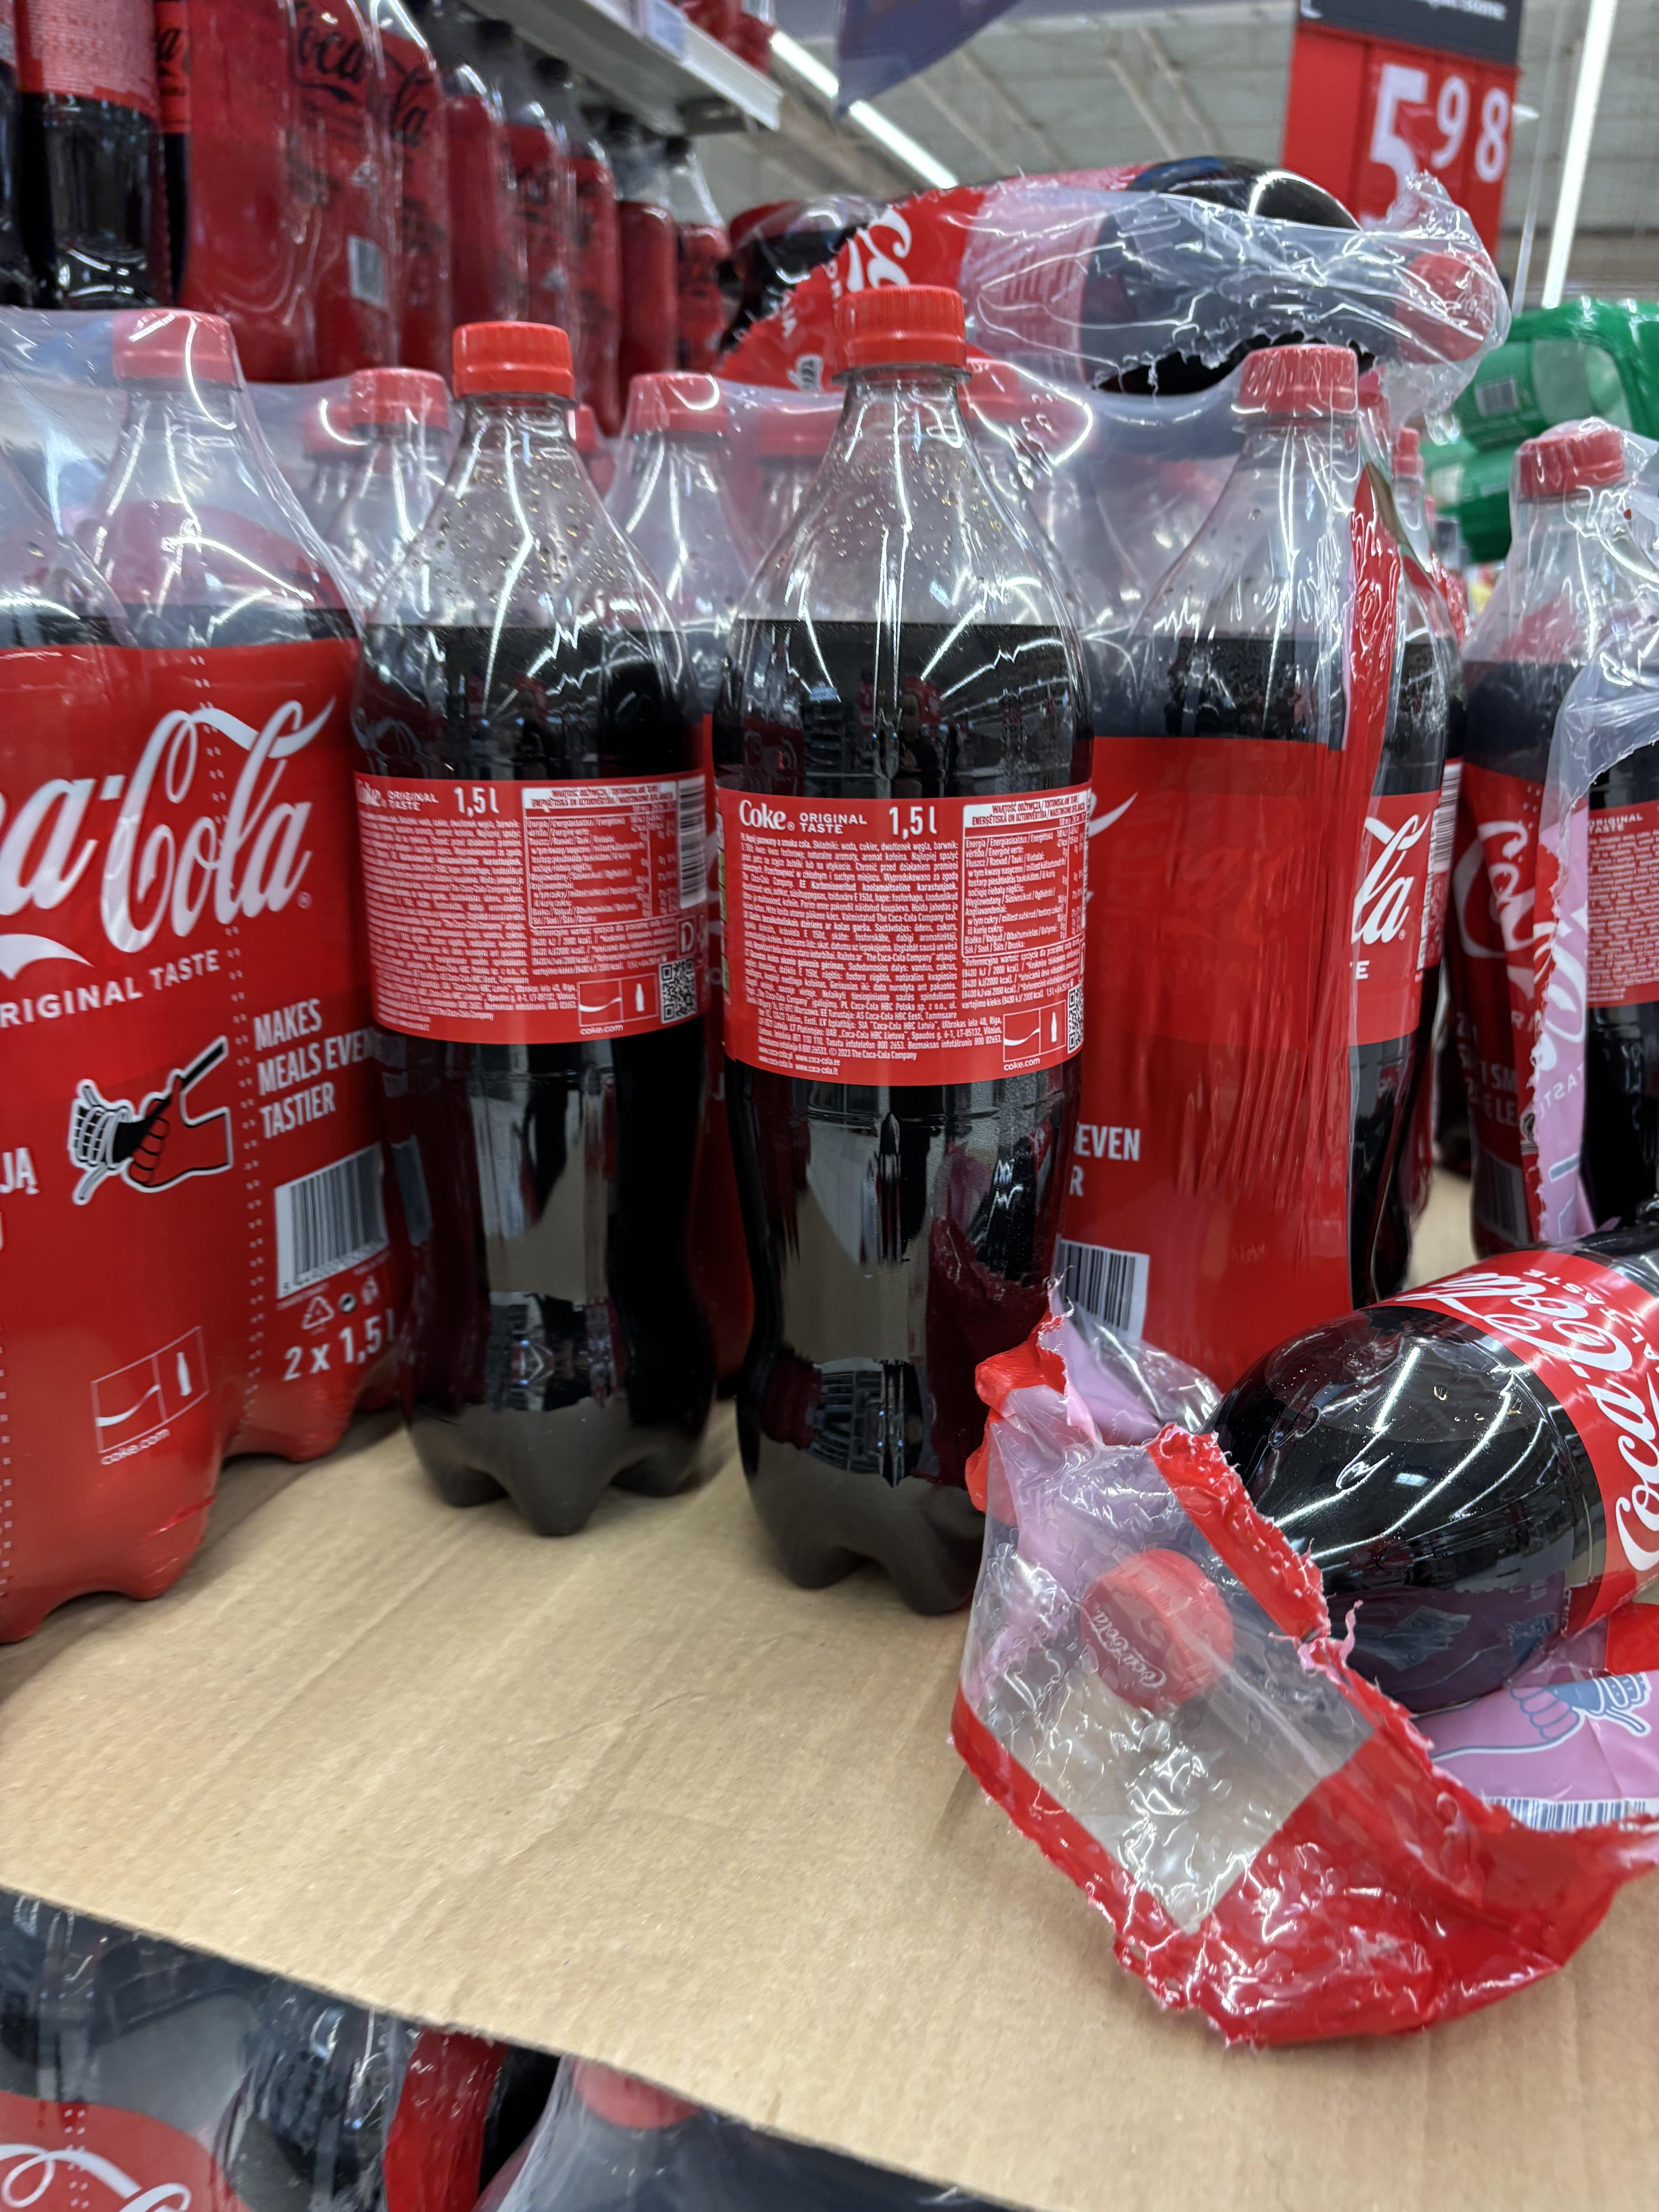Coca Cola: (728, 394, 1131, 1588), (368, 449, 760, 1508)
